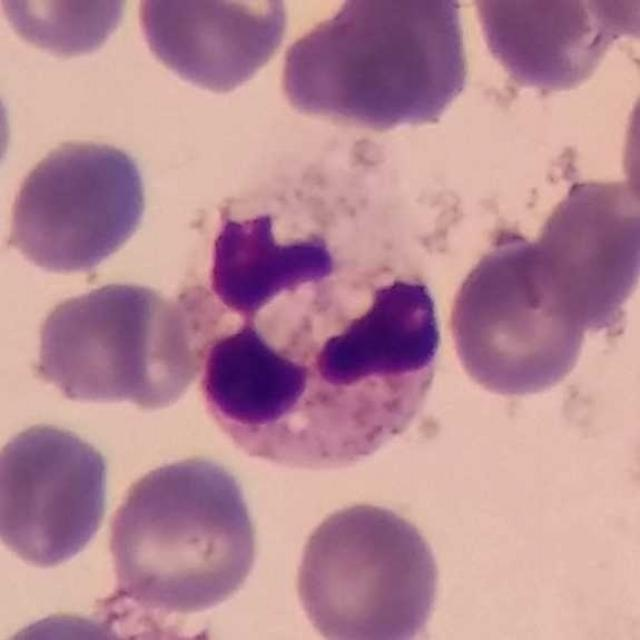Neutrophil: (180, 147, 471, 478)
RBC: (101, 449, 265, 616), (284, 1, 476, 132), (442, 241, 595, 403), (25, 276, 196, 411), (288, 495, 446, 640), (2, 132, 154, 280), (0, 415, 116, 571), (530, 176, 640, 329), (129, 0, 294, 97), (465, 0, 613, 91), (0, 0, 136, 61), (0, 605, 142, 639), (613, 58, 640, 227), (579, 0, 640, 48), (0, 64, 18, 202)
